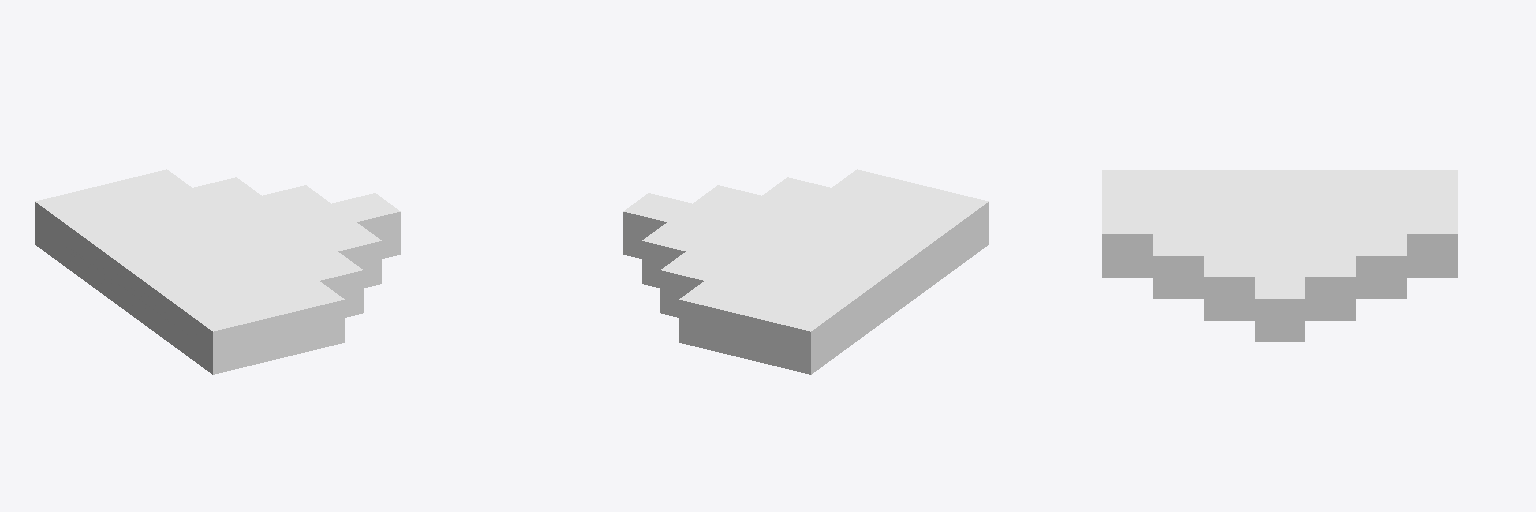
Rendered from Man-11.obj.
3 renders of one model, left to right at view 1: azimuth 30°, elevation 25°; view 2: azimuth 150°, elevation 25°; view 3: azimuth 270°, elevation 25°, orthographic.
Parts seen in each view (by area): view 1: object 1; view 2: object 1; view 3: object 1.
Boxes of the visible parts, x1,y1,x2,y2 form: object 1: [35, 169, 400, 374]; object 1: [623, 169, 988, 374]; object 1: [1102, 170, 1457, 341].
Bounding box in the file's own units: 9.6 × 1.5 × 11.2.